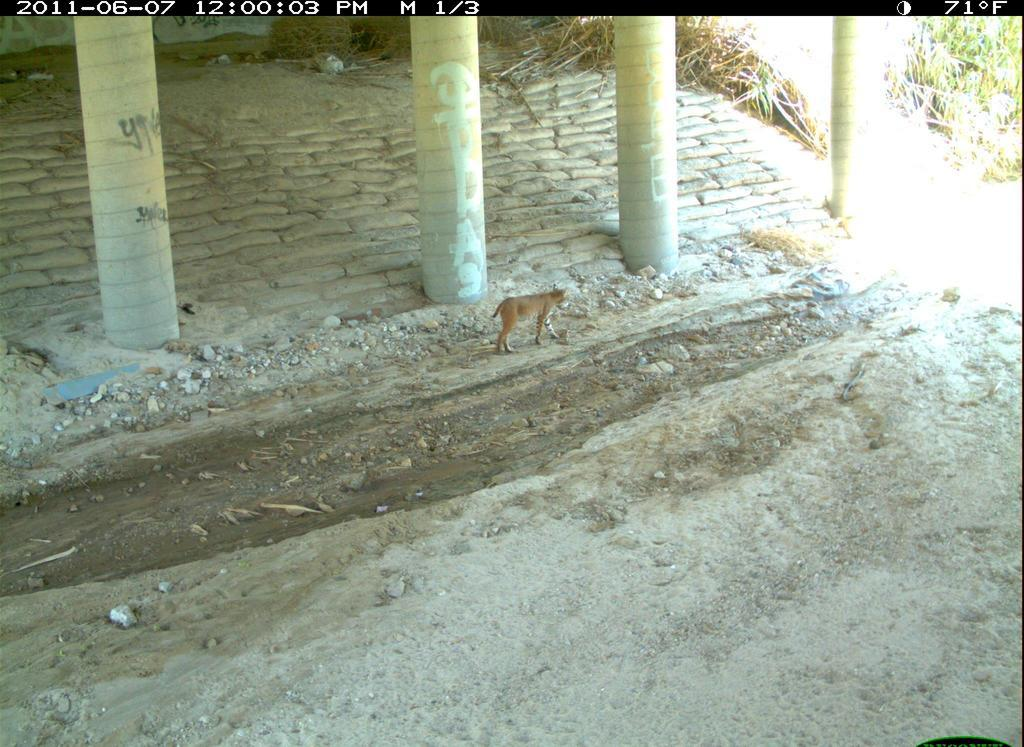bobcat: (970, 556, 1024, 716)
